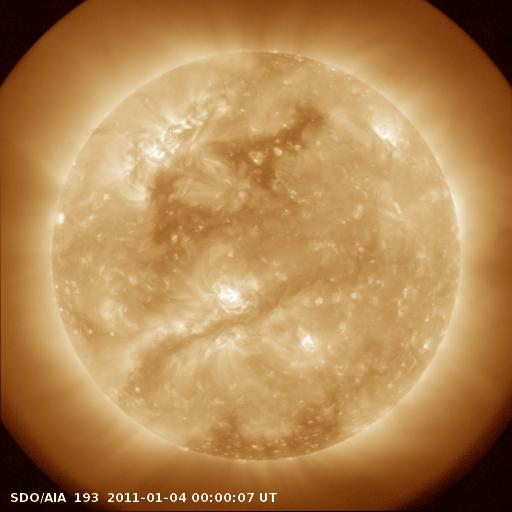coronal_hole: (202, 99, 324, 191), (190, 396, 339, 465), (148, 172, 225, 249)
